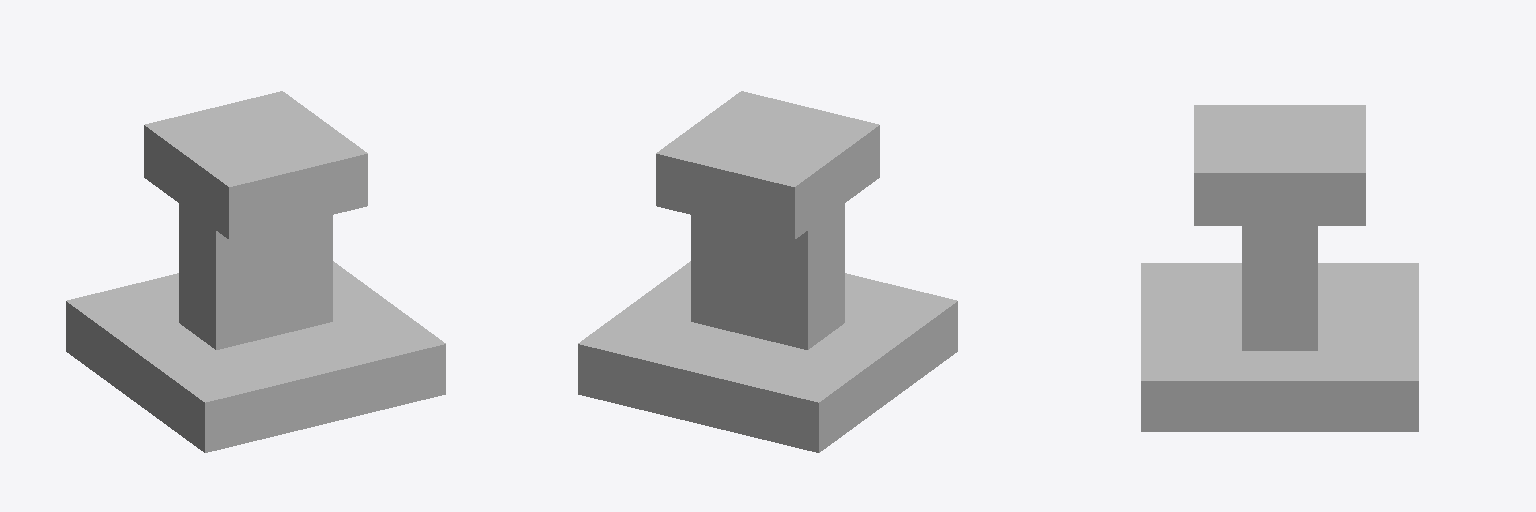
File: Temp_Microscope.obj
3 renders of one model, left to right at view 1: azimuth 30°, elevation 25°; view 2: azimuth 150°, elevation 25°; view 3: azimuth 270°, elevation 25°, orthographic.
Parts seen in each view (by area): view 1: Cube, Cube.002, Cube.001; view 2: Cube, Cube.002, Cube.001; view 3: Cube, Cube.002, Cube.001.
Boxes of the visible parts, <box> form: Cube: <box>66,261,445,452</box>; Cube.002: <box>144,91,367,239</box>; Cube.001: <box>179,204,332,349</box>; Cube: <box>578,261,957,452</box>; Cube.002: <box>656,91,879,239</box>; Cube.001: <box>691,204,844,349</box>; Cube: <box>1141,263,1418,431</box>; Cube.002: <box>1194,105,1365,225</box>; Cube.001: <box>1242,226,1317,350</box>.
Size of the model in its own units: 2 by 1.85 by 2.